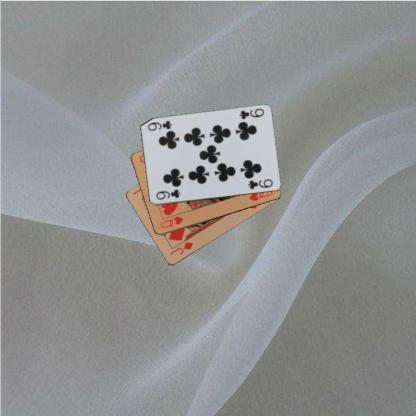9c: (153, 187, 182, 201), (237, 106, 265, 120)
Jd: (167, 240, 194, 256)
Qh: (158, 214, 184, 230)
